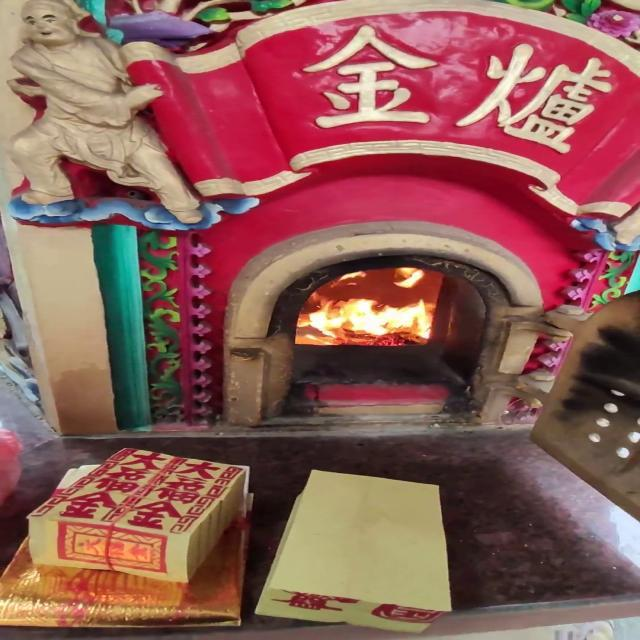Fire: (298, 285, 440, 343)
